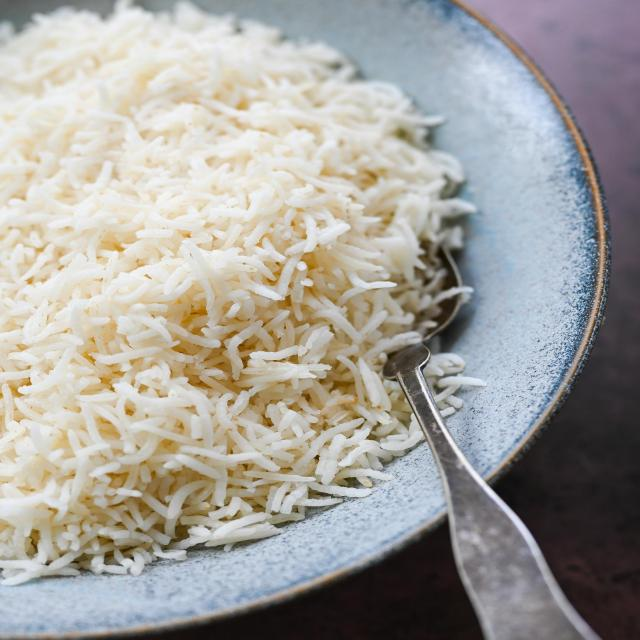rice: (0, 0, 471, 583)
